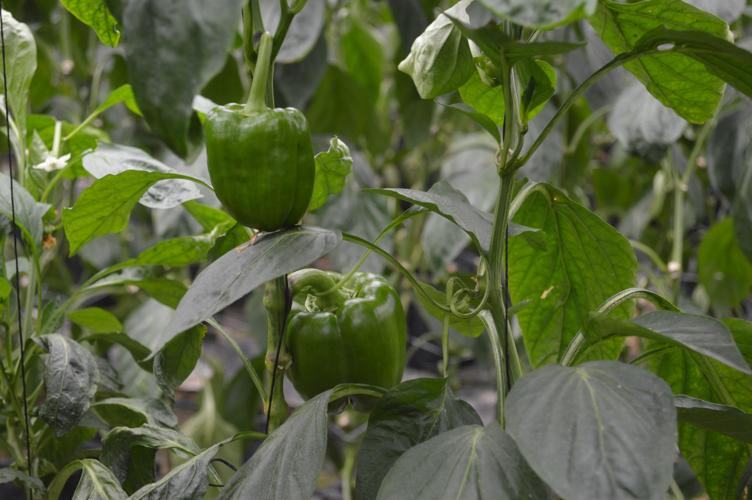BellPepper: (272, 276, 422, 416), (198, 95, 323, 235)
